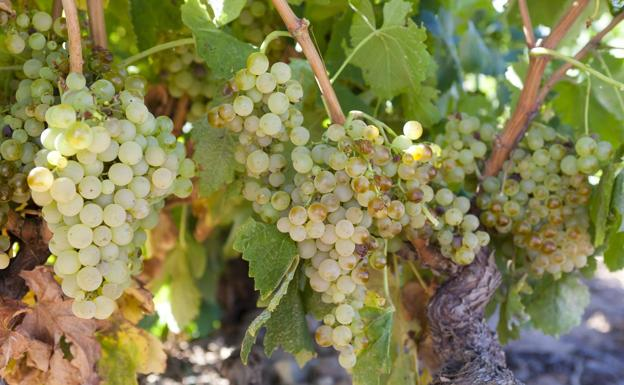Green grapes: (36, 73, 178, 317), (286, 108, 409, 363)
